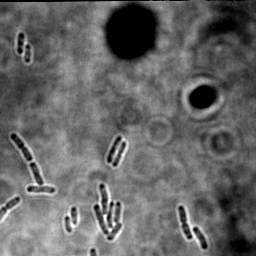Dividing: (9, 132, 35, 163), (177, 204, 192, 241), (111, 139, 128, 168)
Microcolony: (92, 183, 123, 242)
Rod: (105, 134, 123, 164), (191, 226, 211, 251), (28, 161, 44, 187), (26, 184, 56, 196), (15, 31, 26, 55), (23, 42, 33, 65), (62, 216, 73, 234), (70, 205, 79, 227)
